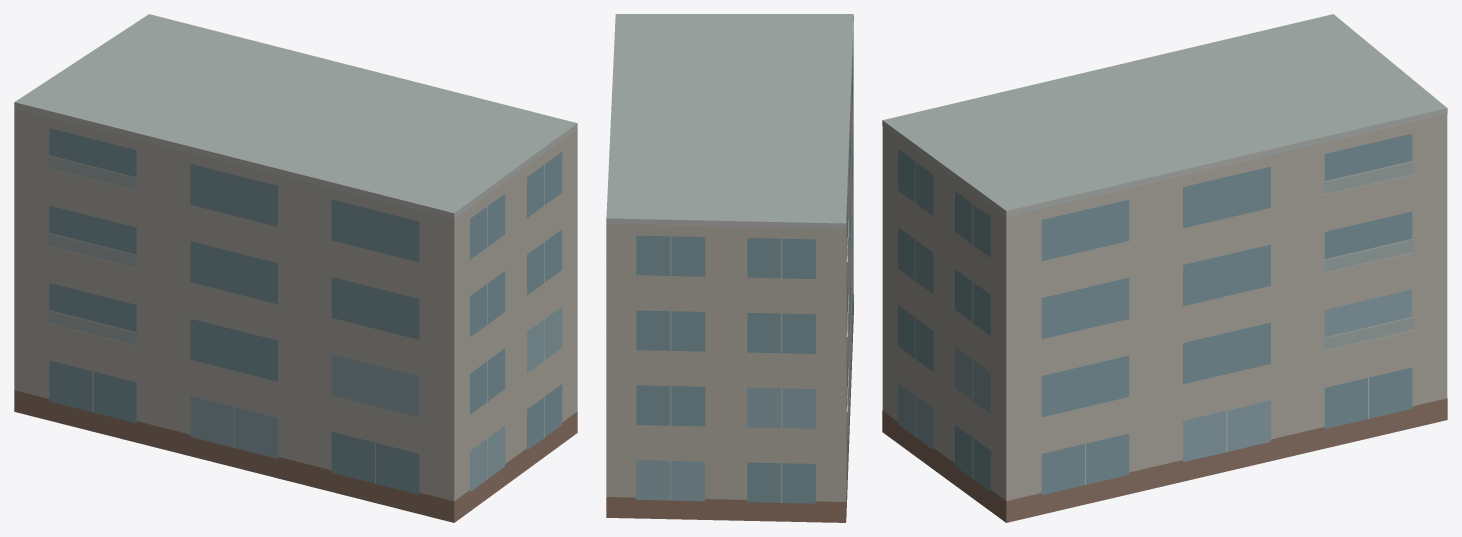
Rendered from survey-upis-32782249.glb.
The picture shows the model from 3 angles, left to right: view 1: azimuth 30°, elevation 25°; view 2: azimuth 150°, elevation 25°; view 3: azimuth 270°, elevation 25°; orthographic projection. The views are drawn at different scales.
Visible parts, largest first — view 1: survey-upis-32782249.tmp; view 2: survey-upis-32782249.tmp; view 3: survey-upis-32782249.tmp.
Part boxes in pixels (x1,y1,x2,y2): survey-upis-32782249.tmp: [14, 14, 577, 522]; survey-upis-32782249.tmp: [606, 14, 853, 522]; survey-upis-32782249.tmp: [882, 14, 1447, 522].
Size of the model in its own units: 17.35 by 12.8 by 21.02.
